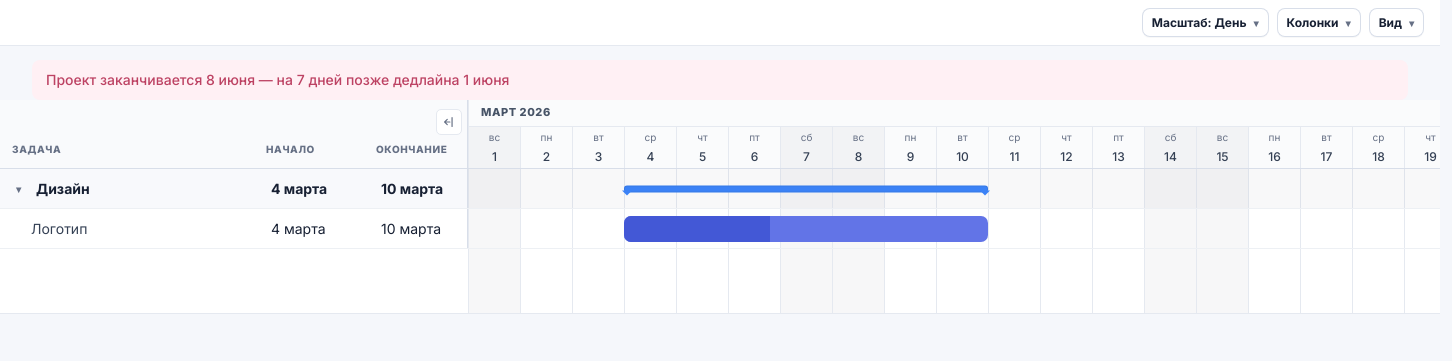
Test case: диаграмма › легенда включается через меню «Вид» и расшифровывает статусы
The width and height of the screenshot is (1452, 361).
Click the button "Вид ▾" at (1396, 22), box x1=1369 y1=8 x2=1424 y2=37
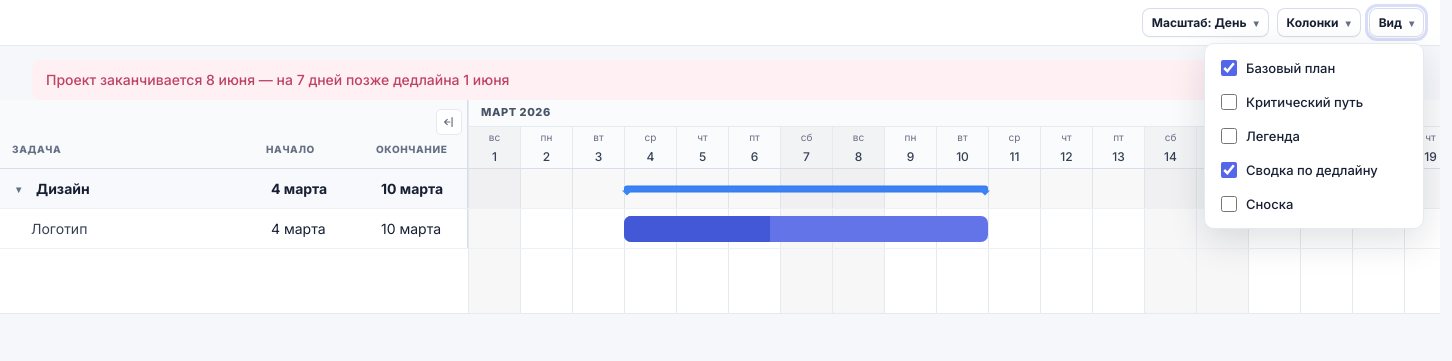
Click the checkbox labelled "Легенда" at (1229, 136), box x1=1221 y1=128 x2=1237 y2=144
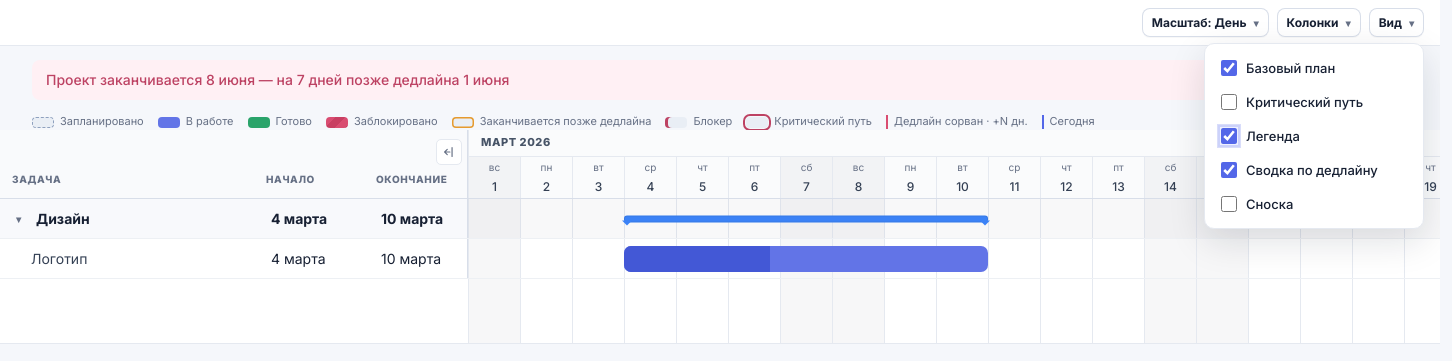
Expected: the element with class "gantt__legend" is shown, x1=32 y1=114 x2=1095 y2=129
Expected: the element with class "gantt__legend" shows "В работе", x1=186 y1=114 x2=234 y2=128
Expected: the element with class "gantt__legend" shows "Готово", x1=276 y1=114 x2=312 y2=128
